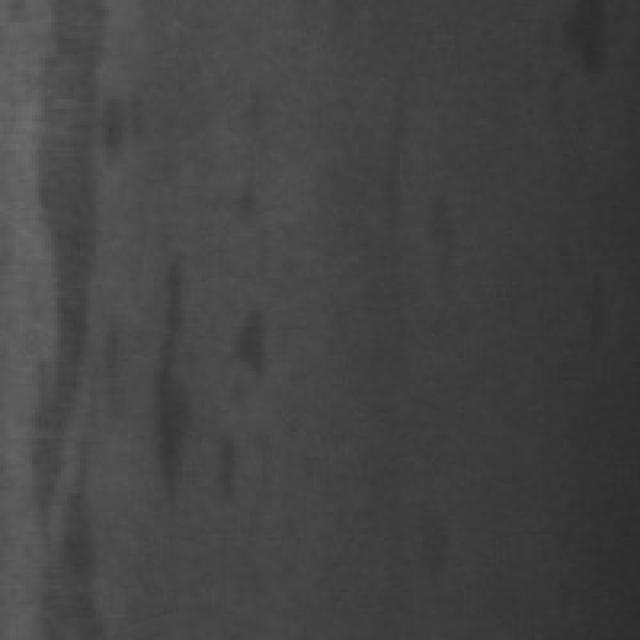inclusion: (19, 3, 125, 627), (134, 240, 212, 522), (365, 70, 422, 246), (218, 307, 282, 403)
